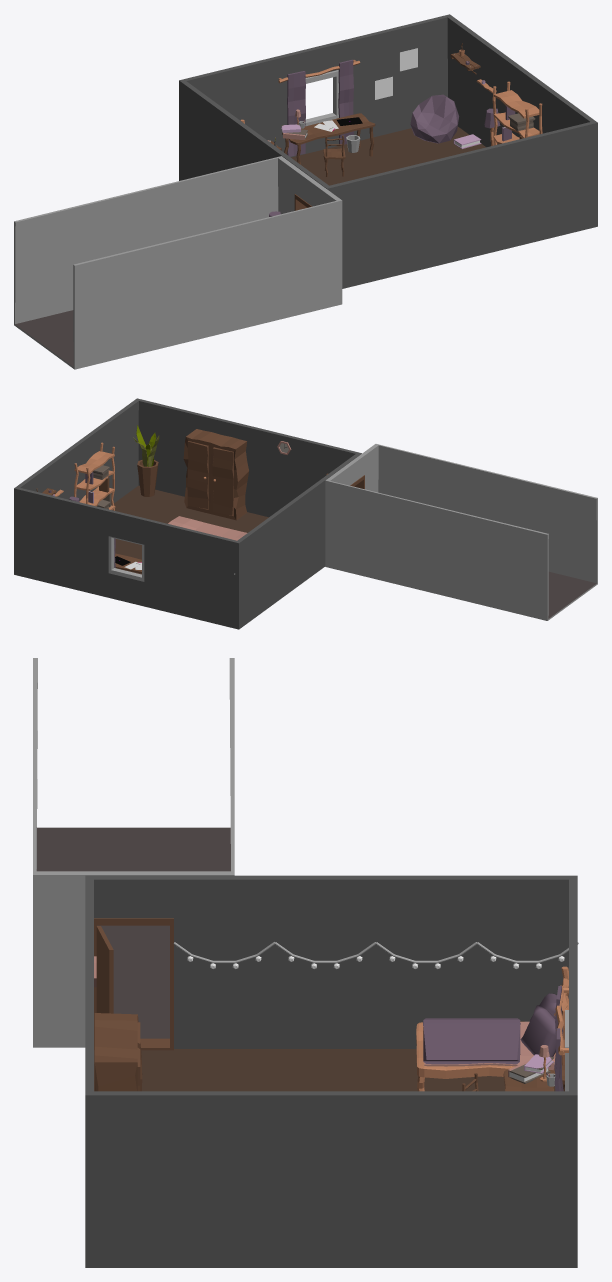
The model's file is room_norah_new_updated.fbx.
The picture shows the model from 3 angles, top to bottom: view 1: azimuth 30°, elevation 25°; view 2: azimuth 150°, elevation 25°; view 3: azimuth 270°, elevation 25°; orthographic projection. The views are drawn at different scales.
Visible parts, largest first — view 1: Room_1, Hallway, Room_1.001, Seat_Thingy, Hallway.001, Shelf, Curtain, Curtain.001, Table, Window_Frame; view 2: Room_1, Hallway, Cabinet, Room_1.001, Shelf, Hallway.001, Rug, Window_Frame, Pot.001; view 3: Room_1, Hallway.001, Room_1.001, Hallway, Blanket, Cabinet, Bed, Fairylights, Door_Frame, Door, Pillow.001.
Boxes of the visible parts, <box> form: Room_1: <box>179,14,597,288</box>; Hallway: <box>14,156,342,369</box>; Room_1.001: <box>291,126,485,185</box>; Seat_Thingy: <box>410,94,459,143</box>; Hallway.001: <box>15,310,73,366</box>; Shelf: <box>492,81,542,145</box>; Curtain: <box>287,71,305,156</box>; Curtain.001: <box>338,59,354,144</box>; Table: <box>282,113,375,144</box>; Window_Frame: <box>305,70,338,126</box>; Room_1: <box>14,398,361,629</box>; Hallway: <box>325,444,597,620</box>; Cabinet: <box>183,429,248,520</box>; Room_1.001: <box>112,485,268,574</box>; Shelf: <box>74,442,115,510</box>; Hallway.001: <box>548,571,596,618</box>; Rug: <box>168,516,247,540</box>; Window_Frame: <box>108,536,144,581</box>; Pot.001: <box>137,460,158,496</box>; Room_1: <box>85,875,577,1267</box>; Hallway.001: <box>36,827,230,1038</box>; Room_1.001: <box>94,1049,555,1091</box>; Hallway: <box>33,658,234,1047</box>; Blanket: <box>423,1018,520,1064</box>; Cabinet: <box>94,1013,142,1091</box>; Bed: <box>416,1021,555,1078</box>; Fairylights: <box>173,942,578,968</box>; Door_Frame: <box>94,918,173,1050</box>; Door: <box>96,926,113,1013</box>; Pillow.001: <box>520,1005,556,1056</box>.
Size of the model in its own units: 2985 by 560 by 1576.
